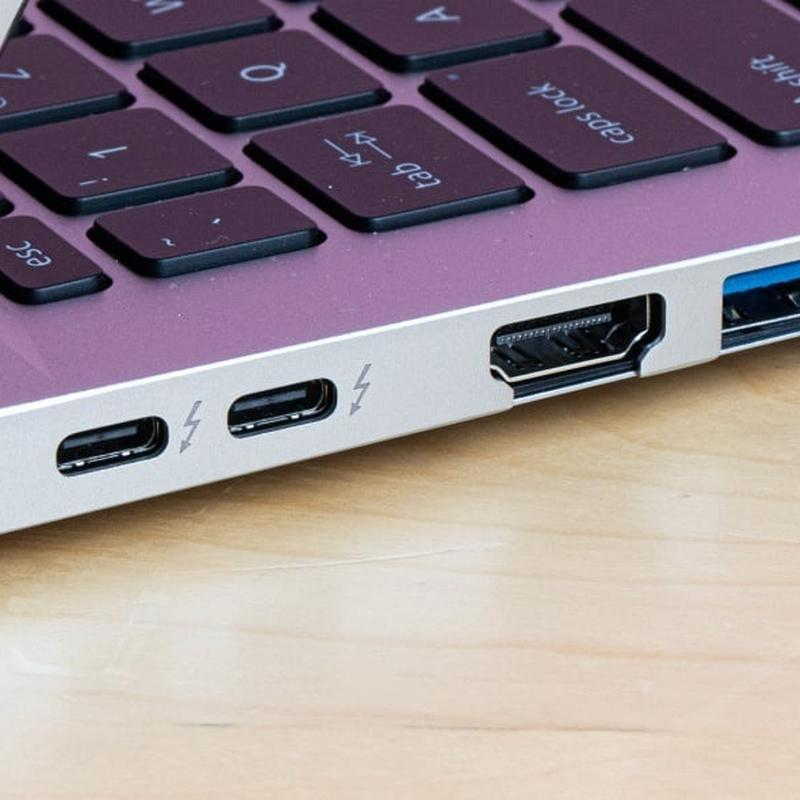HDMI: (460, 292, 686, 417)
USB: (214, 373, 379, 468), (39, 401, 196, 494), (707, 251, 799, 381)
